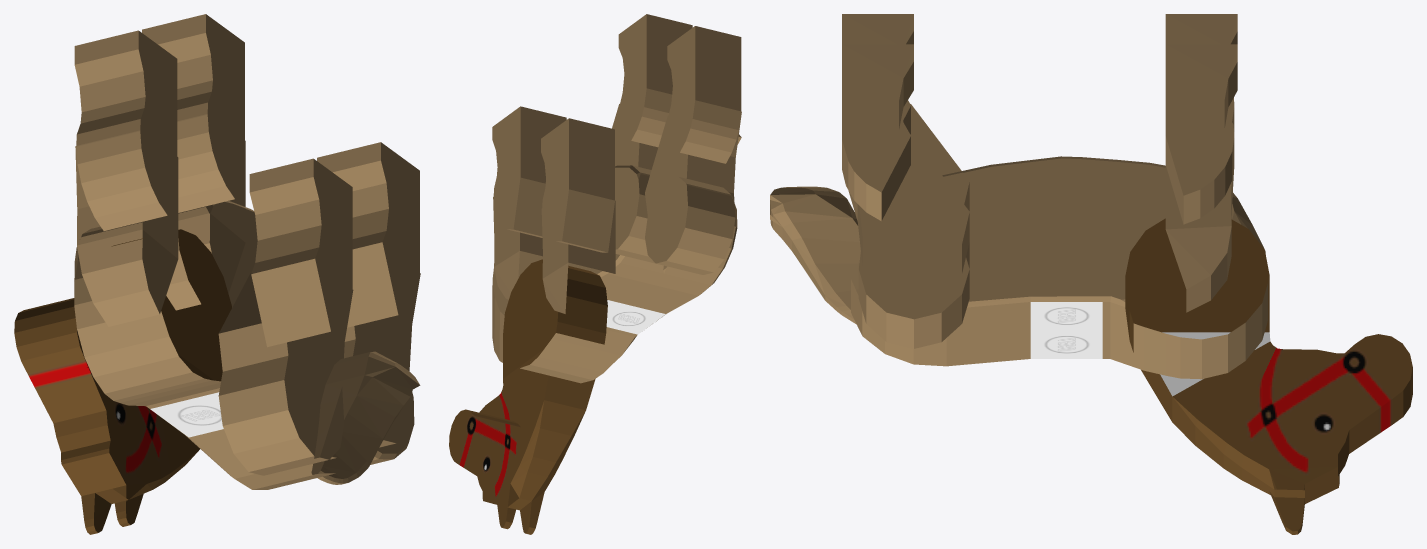
3 renders of one model, left to right at view 1: azimuth 30°, elevation 25°; view 2: azimuth 150°, elevation 25°; view 3: azimuth 270°, elevation 25°, orthographic. The views are drawn at different scales.
Visible parts, largest first — view 1: 039_shape13, 018_shape7, 030_shape11, 027_shape9, 012_shape3, 024_shape7, 036_shape11, 015_shape5, 042_shape15, 021_shape5, 033_shape9; view 2: 039_shape13, 012_shape3, 027_shape9, 018_shape7, 030_shape11, 024_shape7, 036_shape11, 033_shape9, 015_shape5, 021_shape5; view 3: 012_shape3, 039_shape13, 033_shape9, 024_shape7, 036_shape11, 042_shape15, 021_shape5, 030_shape11, 018_shape7, 027_shape9.
Boxes of the visible parts, x1,y1,x2,y2 form: 039_shape13: [14, 229, 231, 534]; 018_shape7: [74, 30, 177, 230]; 030_shape11: [249, 158, 352, 347]; 027_shape9: [218, 273, 353, 475]; 012_shape3: [74, 201, 414, 489]; 024_shape7: [142, 14, 244, 212]; 036_shape11: [317, 142, 419, 327]; 015_shape5: [75, 130, 178, 326]; 042_shape15: [311, 351, 420, 484]; 021_shape5: [166, 114, 245, 310]; 033_shape9: [330, 273, 420, 459]; 039_shape13: [449, 259, 607, 534]; 012_shape3: [492, 165, 737, 383]; 027_shape9: [645, 100, 741, 274]; 018_shape7: [541, 118, 614, 252]; 030_shape11: [667, 26, 741, 163]; 024_shape7: [492, 106, 566, 237]; 036_shape11: [618, 14, 692, 147]; 033_shape9: [612, 88, 671, 263]; 015_shape5: [541, 200, 615, 313]; 021_shape5: [493, 197, 542, 299]; 012_shape3: [851, 156, 1267, 379]; 039_shape13: [1125, 218, 1412, 534]; 033_shape9: [842, 134, 969, 348]; 024_shape7: [1165, 44, 1237, 224]; 036_shape11: [842, 44, 913, 220]; 042_shape15: [770, 186, 860, 324]; 021_shape5: [1165, 165, 1234, 312]; 030_shape11: [842, 14, 913, 134]; 018_shape7: [1165, 14, 1237, 131]; 027_shape9: [858, 104, 969, 268].
Bounding box in the file's own units: 1.6 × 5.92 × 7.15.
Materials: 4 (2 with a texture image).
